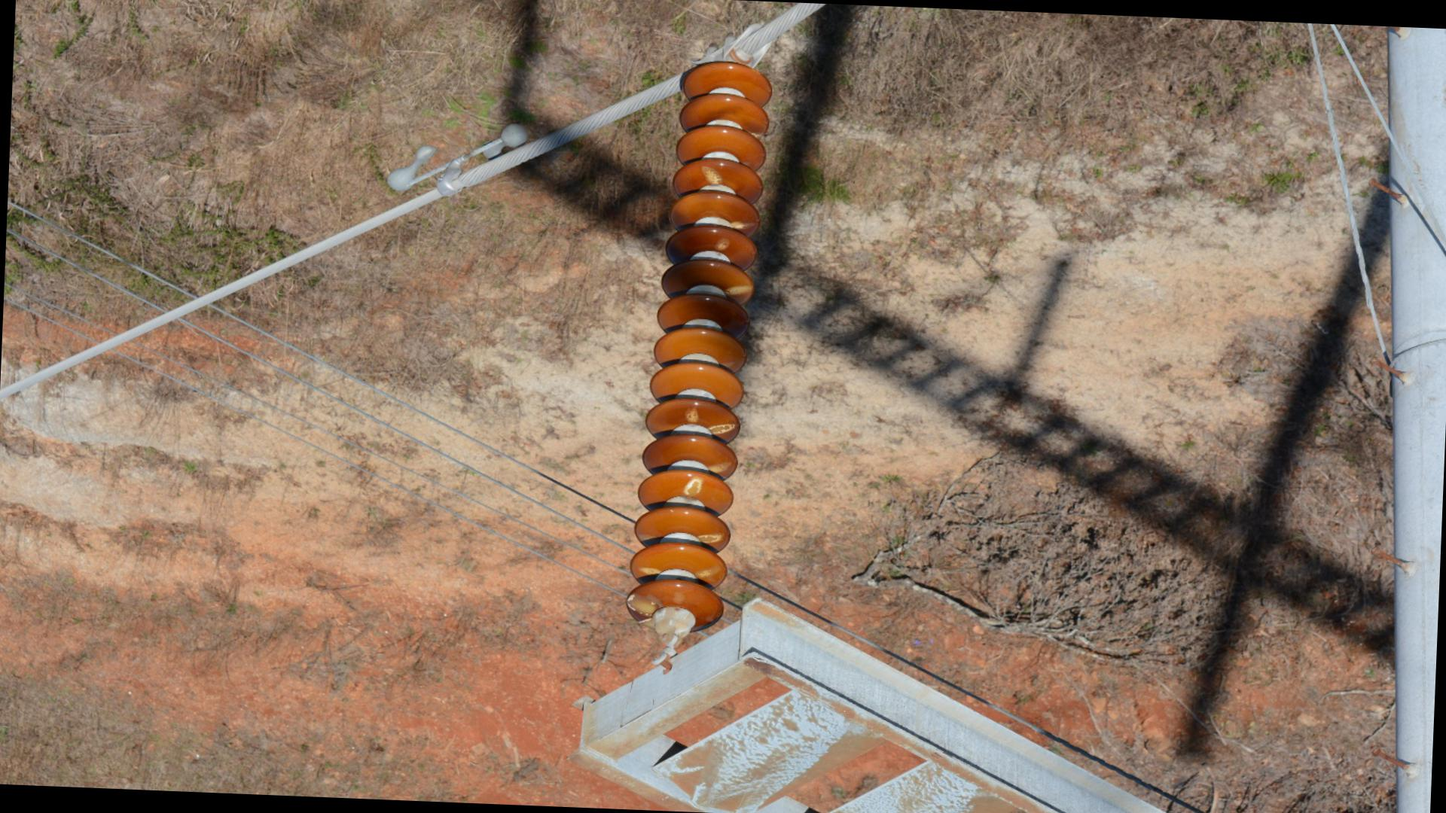damper: (383, 113, 534, 205)
